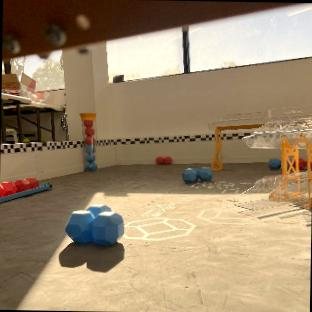V5_BLUE: (65, 205, 124, 245), (181, 167, 212, 182), (86, 145, 95, 168), (269, 158, 280, 168)
V5_RED: (15, 178, 38, 190), (86, 124, 92, 143), (156, 156, 171, 163), (298, 158, 305, 168)
